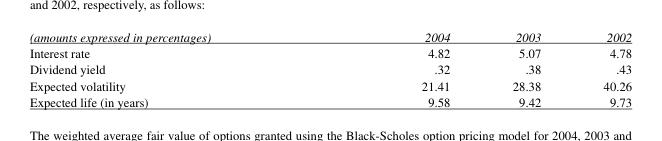table: (28, 28, 631, 109)
table column: (28, 28, 315, 109), (315, 28, 480, 109), (480, 28, 571, 109), (571, 28, 631, 109)
table column header: (28, 28, 631, 43)
table row: (28, 43, 631, 60), (28, 76, 631, 93), (28, 60, 631, 76), (28, 93, 631, 109), (28, 28, 631, 43)
